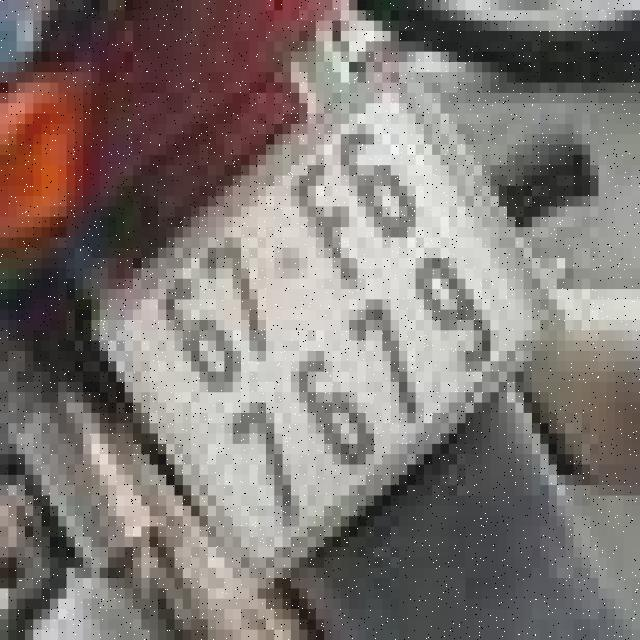6: (276, 333, 395, 491), (145, 255, 255, 420), (327, 105, 441, 259)
7: (209, 388, 320, 552), (333, 279, 438, 446), (186, 219, 295, 378)
9: (403, 230, 513, 384)
F: (273, 143, 384, 313)
